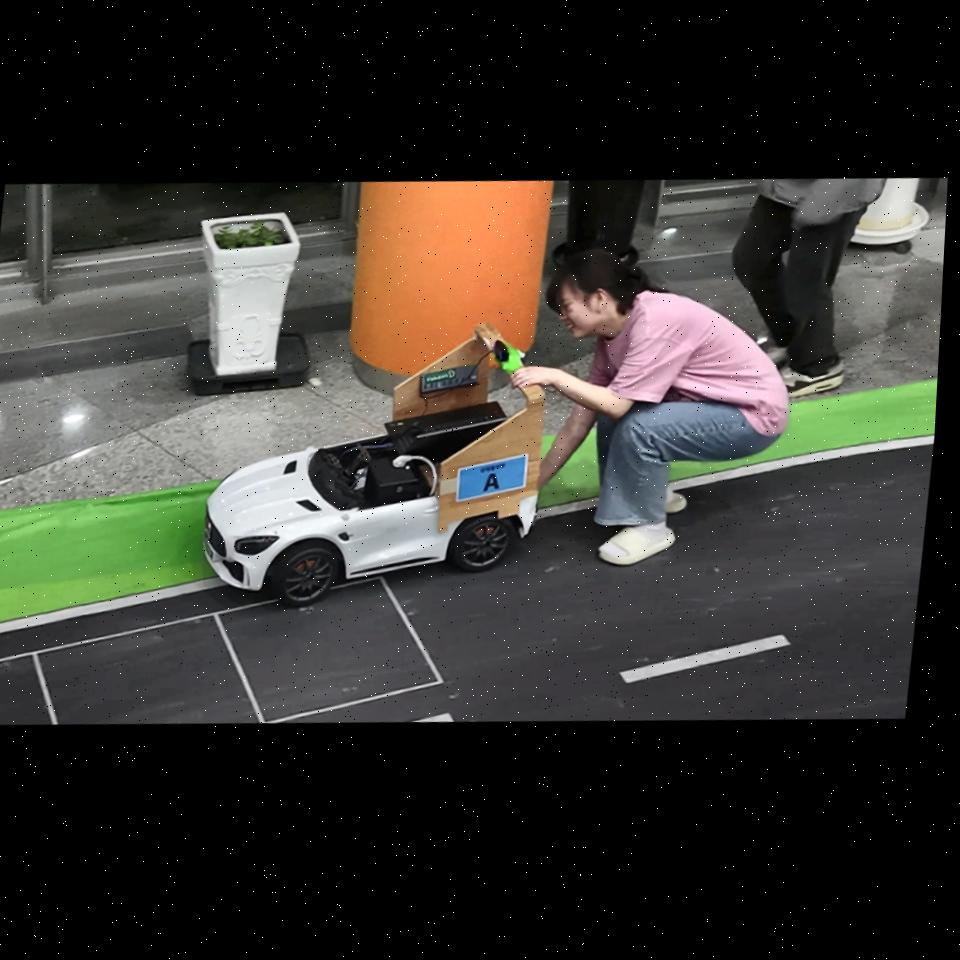broken_line: (619, 634, 791, 683), (410, 713, 454, 722)
